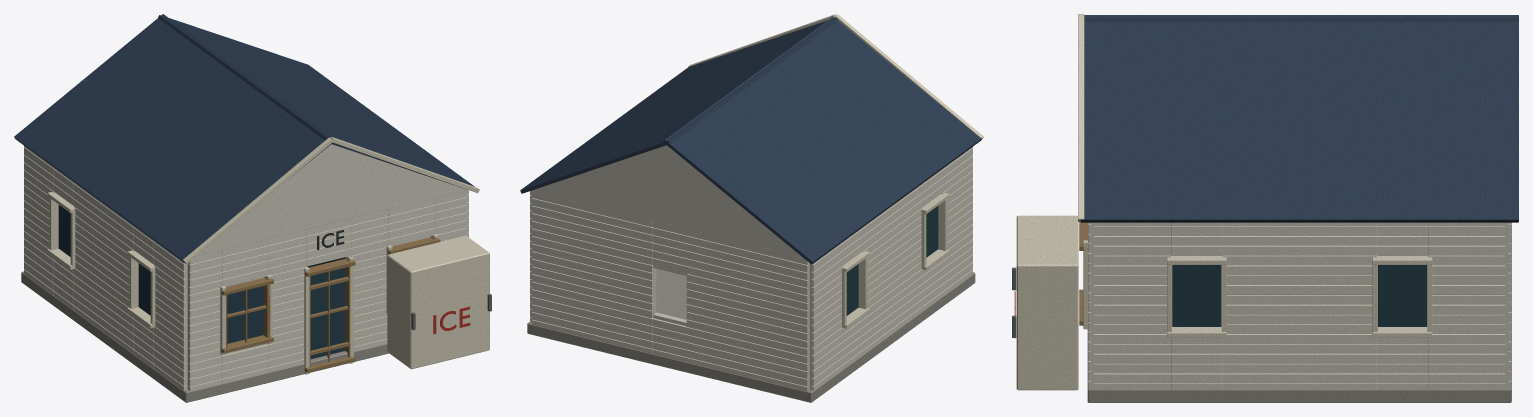
The model's file is SHOPICE2_lod1.glb.
3 views of the same model, side by side, from view 1: azimuth 30°, elevation 25°; view 2: azimuth 150°, elevation 25°; view 3: azimuth 270°, elevation 25° (orthographic). The views are drawn at different scales.
Parts seen in each view (by area): view 1: SHOPICE2_LOD1; view 2: SHOPICE2_LOD1; view 3: SHOPICE2_LOD1.
Boxes of the visible parts, x1=… form: SHOPICE2_LOD1: x1=14, y1=14, x2=491, y2=402; SHOPICE2_LOD1: x1=520, y1=14, x2=983, y2=402; SHOPICE2_LOD1: x1=1012, y1=14, x2=1518, y2=402.
Size of the model in its own units: 8.51 by 6.41 by 9.85.
Materials: 12 (10 with a texture image).
